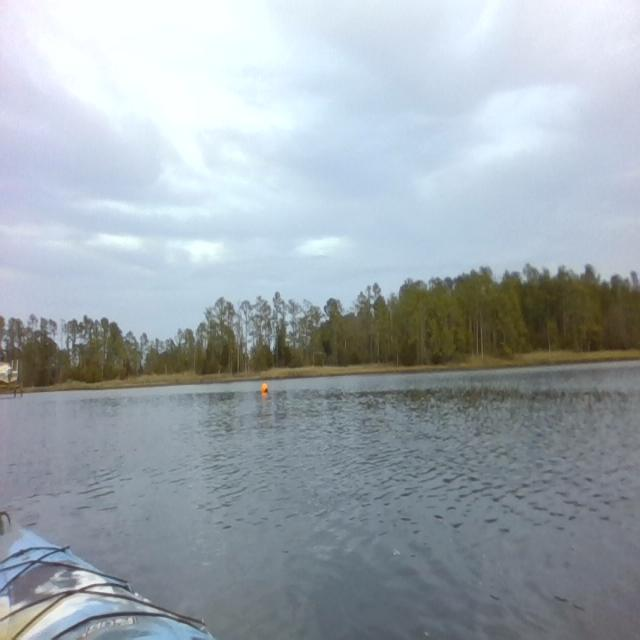Buoy: (260, 379, 269, 399)
